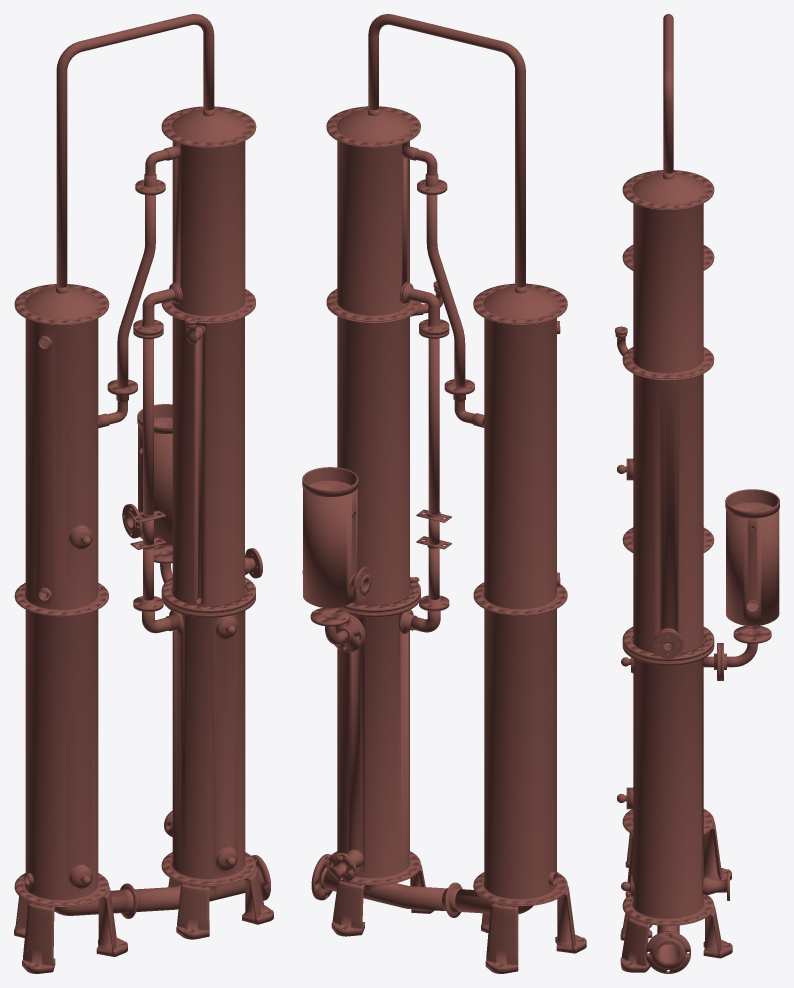
The model's file is distillation_column.glb.
The picture shows the model from 3 angles, left to right: view 1: azimuth 30°, elevation 25°; view 2: azimuth 150°, elevation 25°; view 3: azimuth 270°, elevation 25°; orthographic projection. The views are drawn at different scales.
Visible parts, largest first — view 1: 101 behuizing boven kolom A:1, 107 behuizing onder kolom A:1, 103 kolom kolom A3:1, 04 kolom:1, 110 behuizing midden kolom B:1, kopstukken verbinding:1, kopstukken:2, kopstukken:1, 02 kolom:1, verbinding vat 1 naar 2:1, 8 grote voet:3, glas vatje 3:1 (+9 smaller); view 2: 101 behuizing boven kolom A:1, 107 behuizing onder kolom A:1, 04 kolom:1, 103 kolom kolom A3:1, 110 behuizing midden kolom B:1, 02 kolom:1, kopstukken verbinding:1, kopstukken:2, kopstukken:1, verbinding vat 1 naar 2:1, 8 grote voet:2, glas vatje 3:1 (+10 smaller); view 3: 103 kolom kolom A3:1, 04 kolom:1, 110 behuizing midden kolom B:1, 02 kolom:1, kopstukken:2, kopstukken verbinding:1, 01 bovendeksel:2, 9 kleine voet:3, 05 ring:1, 8 grote voet:2, 9 kleine voet:2, 3+7:1 (+9 smaller).
Part boxes in pixels (box(x1,y1,x2,y2)): 101 behuizing boven kolom A:1: box(14, 286, 108, 615); 107 behuizing onder kolom A:1: box(14, 587, 108, 905); 103 kolom kolom A3:1: box(161, 293, 255, 613); 04 kolom:1: box(161, 595, 255, 885); 110 behuizing midden kolom B:1: box(161, 108, 255, 321); kopstukken verbinding:1: box(56, 14, 214, 287); kopstukken:2: box(161, 106, 256, 146); kopstukken:1: box(14, 284, 109, 324); 02 kolom:1: box(138, 425, 172, 544); verbinding vat 1 naar 2:1: box(117, 195, 155, 387); 8 grote voet:3: box(22, 902, 55, 973); glas vatje 3:1: box(143, 338, 153, 515); 101 behuizing boven kolom A:1: box(473, 286, 567, 615); 107 behuizing onder kolom A:1: box(473, 585, 567, 904); 04 kolom:1: box(326, 594, 420, 884); 103 kolom kolom A3:1: box(326, 296, 420, 612); 110 behuizing midden kolom B:1: box(326, 108, 420, 321); 02 kolom:1: box(302, 488, 357, 607); kopstukken verbinding:1: box(368, 14, 525, 287); kopstukken:2: box(326, 106, 420, 146); kopstukken:1: box(473, 283, 567, 323); verbinding vat 1 naar 2:1: box(426, 195, 465, 386); 8 grote voet:2: box(485, 903, 518, 973); glas vatje 3:1: box(428, 338, 439, 514); 103 kolom kolom A3:1: box(622, 350, 713, 661); 04 kolom:1: box(623, 644, 713, 924); 110 behuizing midden kolom B:1: box(622, 172, 714, 378); 02 kolom:1: box(726, 510, 779, 625); kopstukken:2: box(622, 170, 714, 209); kopstukken verbinding:1: box(663, 14, 673, 173); 01 bovendeksel:2: box(725, 489, 779, 518); 9 kleine voet:3: box(620, 917, 652, 972); 05 ring:1: box(622, 627, 714, 660); 8 grote voet:2: box(703, 822, 731, 880); 9 kleine voet:2: box(703, 906, 732, 958); 3+7:1: box(622, 896, 714, 963).
Bounding box in the file's own units: 51.7 × 180 × 30.78.
